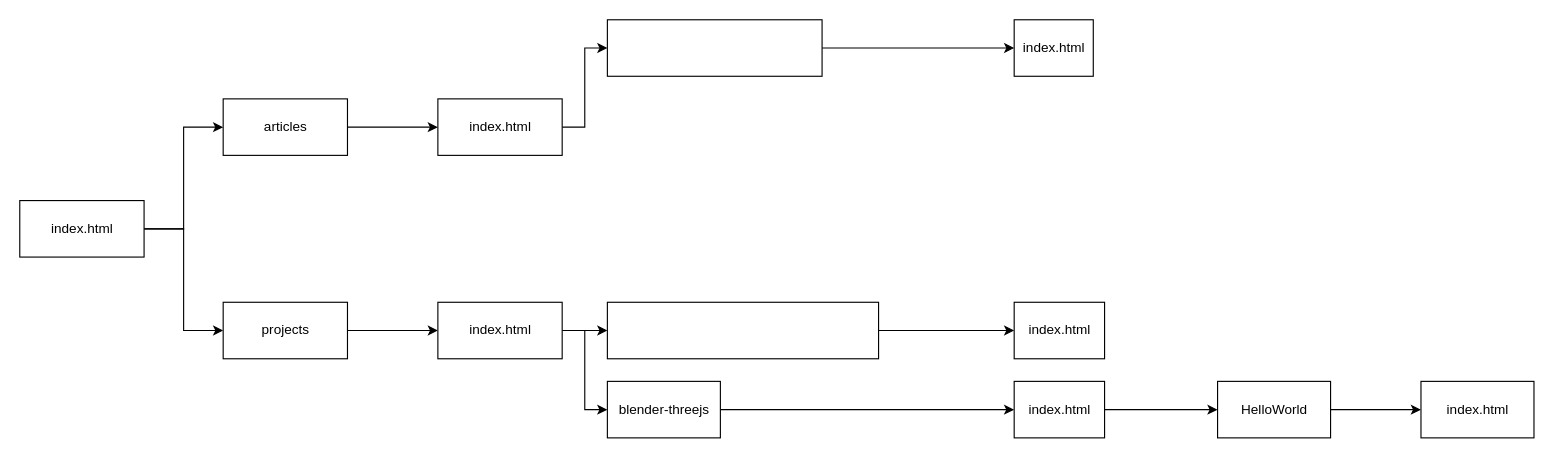
Some shapes in this 1554 by 458 pixel diagram are drawn without their labels. Each missing label, with the centre of its shape:
cesium-image-terrain-reactive-downloader: [742,330]
javascript-taobao-use-qiandao: [714,47]
